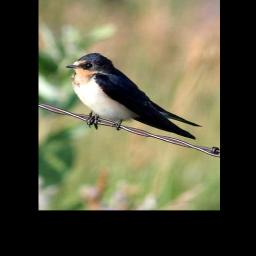Swallow: (64, 50, 202, 144)
